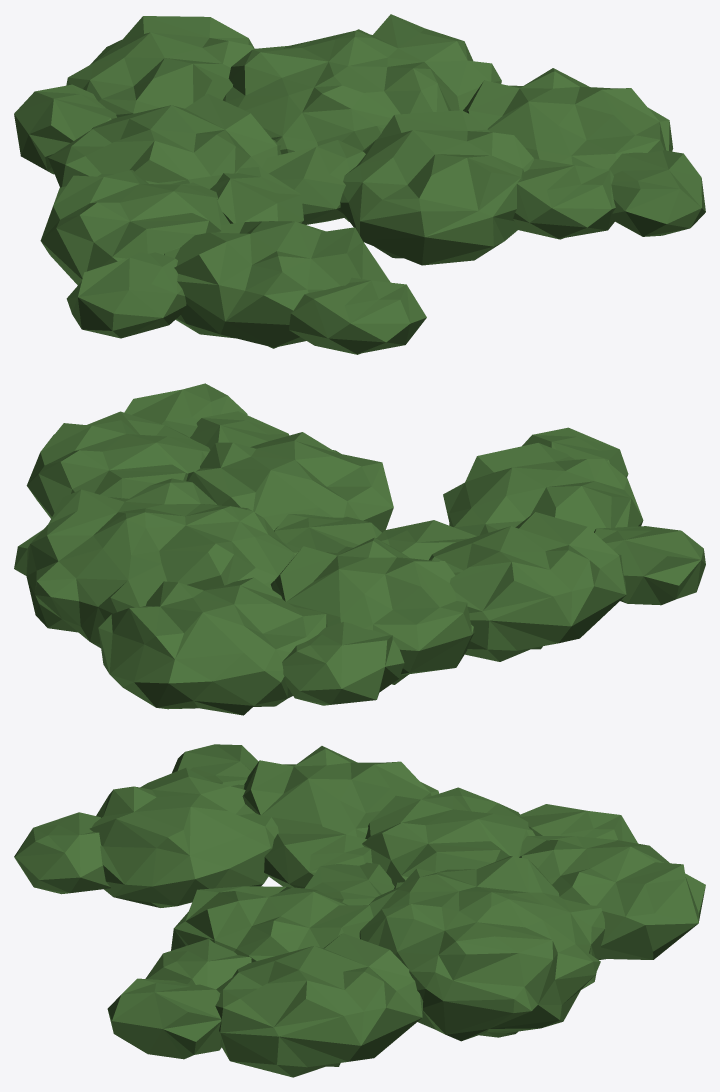
Rendered from SM_Env_Tree_Canopy_03.glb.
The picture shows the model from 3 angles, top to bottom: view 1: azimuth 30°, elevation 25°; view 2: azimuth 150°, elevation 25°; view 3: azimuth 270°, elevation 25°; orthographic projection. The views are drawn at different scales.
Parts seen in each view (by area): view 1: SM_Env_Tree_Canopy_03_part00; view 2: SM_Env_Tree_Canopy_03_part00; view 3: SM_Env_Tree_Canopy_03_part00.
Boxes of the visible parts, x1,y1,x2,y2 form: SM_Env_Tree_Canopy_03_part00: (14, 14, 705, 354); SM_Env_Tree_Canopy_03_part00: (14, 383, 705, 715); SM_Env_Tree_Canopy_03_part00: (14, 744, 705, 1077).
Bounding box in the file's own units: 21.26 × 4.54 × 21.21.
1 material, 1 textured.
